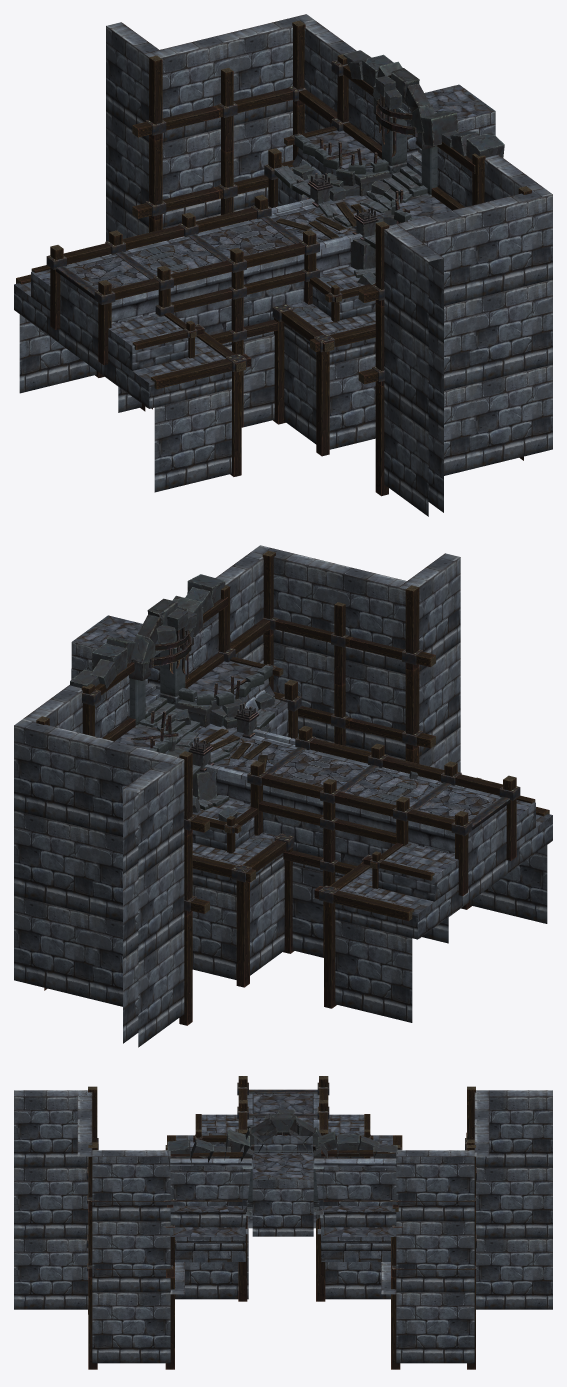
Rendered from bridgeend.fbx.
The picture shows the model from 3 angles, top to bottom: view 1: azimuth 30°, elevation 25°; view 2: azimuth 150°, elevation 25°; view 3: azimuth 270°, elevation 25°; orthographic projection. The views are drawn at different scales.
Parts seen in each view (by area): view 1: bridgeend; view 2: bridgeend; view 3: bridgeend.
Boxes of the visible parts, box(x1,y1,x2,y2) form: bridgeend: box(14, 14, 552, 516); bridgeend: box(14, 545, 552, 1047); bridgeend: box(14, 1076, 552, 1369).
Bounding box in the file's own units: 15.42 × 11.03 × 21.34.
